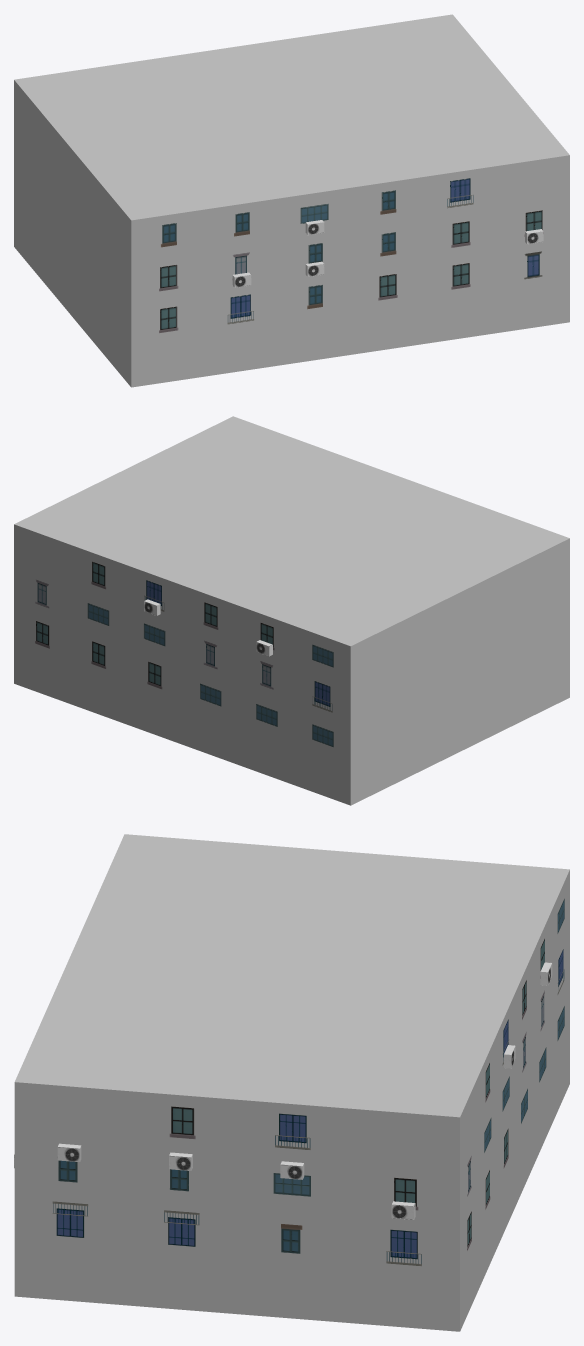
The model's file is 111StationFix13.fbx.
3 views of the same model, one above another, from view 1: azimuth 30°, elevation 25°; view 2: azimuth 150°, elevation 25°; view 3: azimuth 270°, elevation 25° (orthographic). The views are drawn at different scales.
Visible parts, largest first — view 1: Cube.260; view 2: Cube.260; view 3: Cube.260.
Part boxes in pixels (box(x1,y1,x2,y2)): Cube.260: box(14, 14, 569, 387); Cube.260: box(14, 416, 569, 805); Cube.260: box(14, 834, 569, 1331).
Size of the model in its own units: 22.22 by 7.85 by 18.43.
